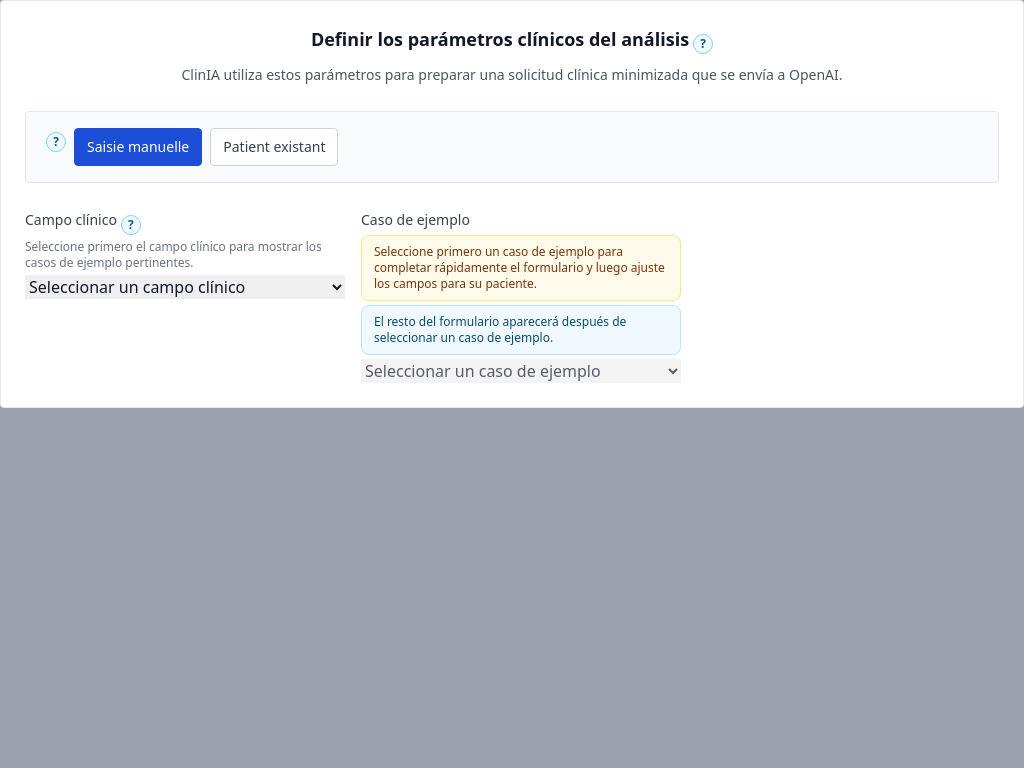
ClinicalForm › keeps the hypertension example medical terms in English for es
Select "Medicina general" in the dropdown with id "clinical-field": (185, 287) [25,275,345,299]
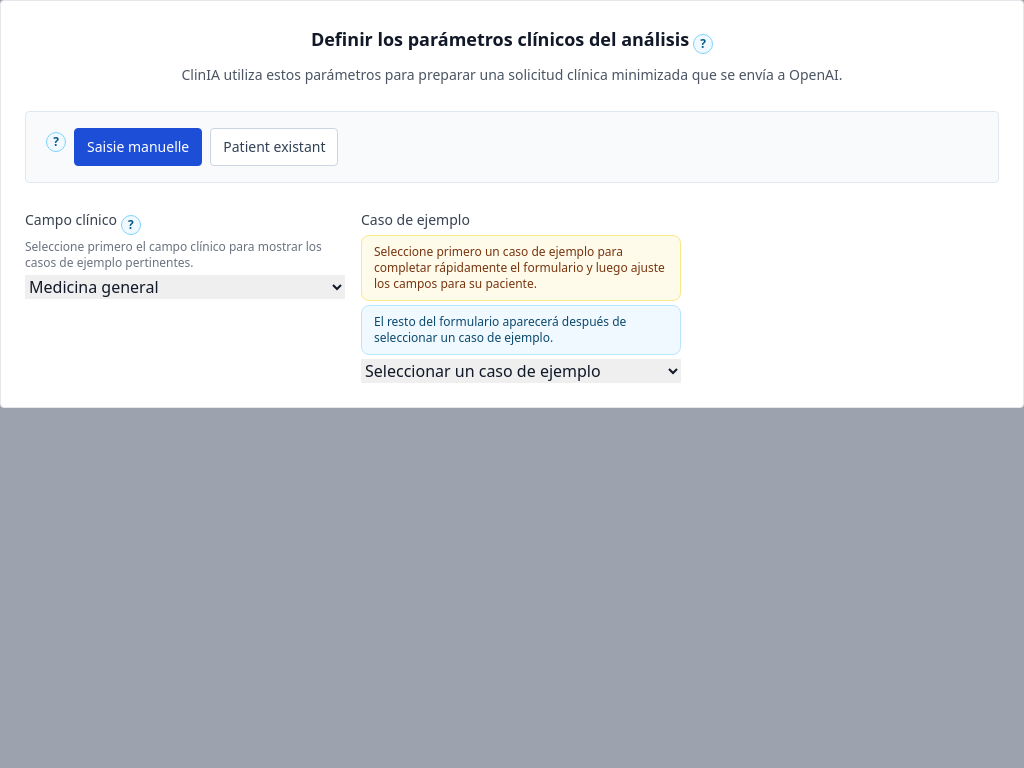
Select "Hypertension" in the dropdown with id "clinical-example-case": (521, 371) [361,359,681,383]
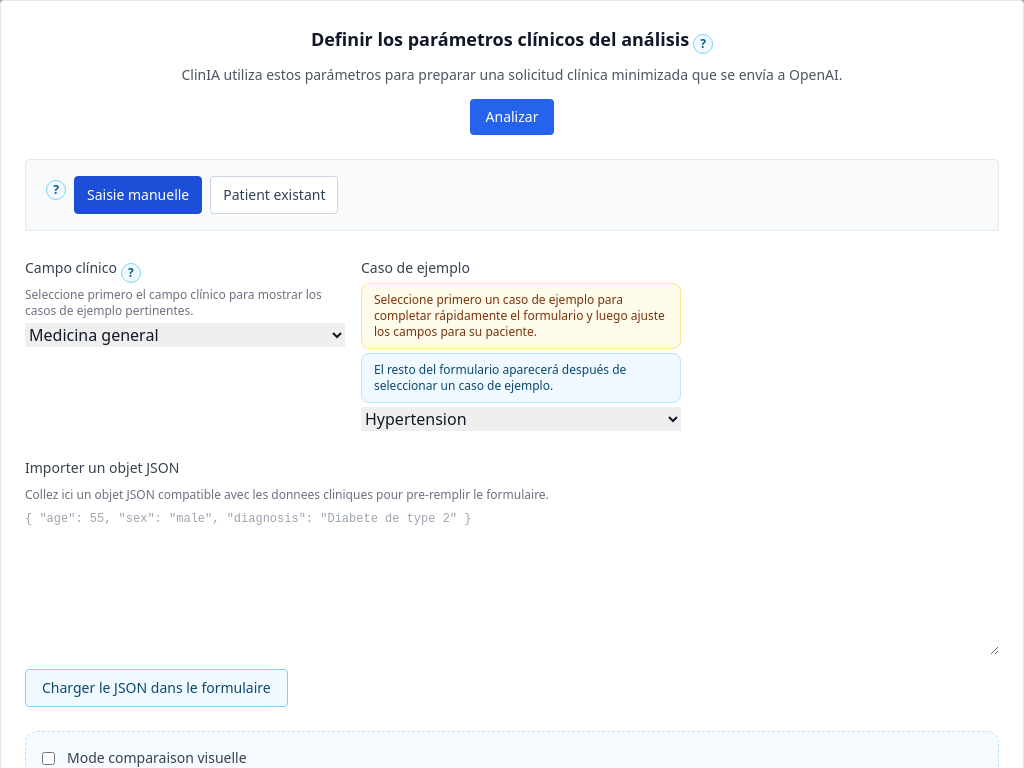
Check: the button "Analizar" is shown, box [470,99,554,135]
